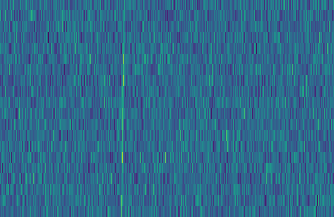signal: (116, 0, 128, 217)
